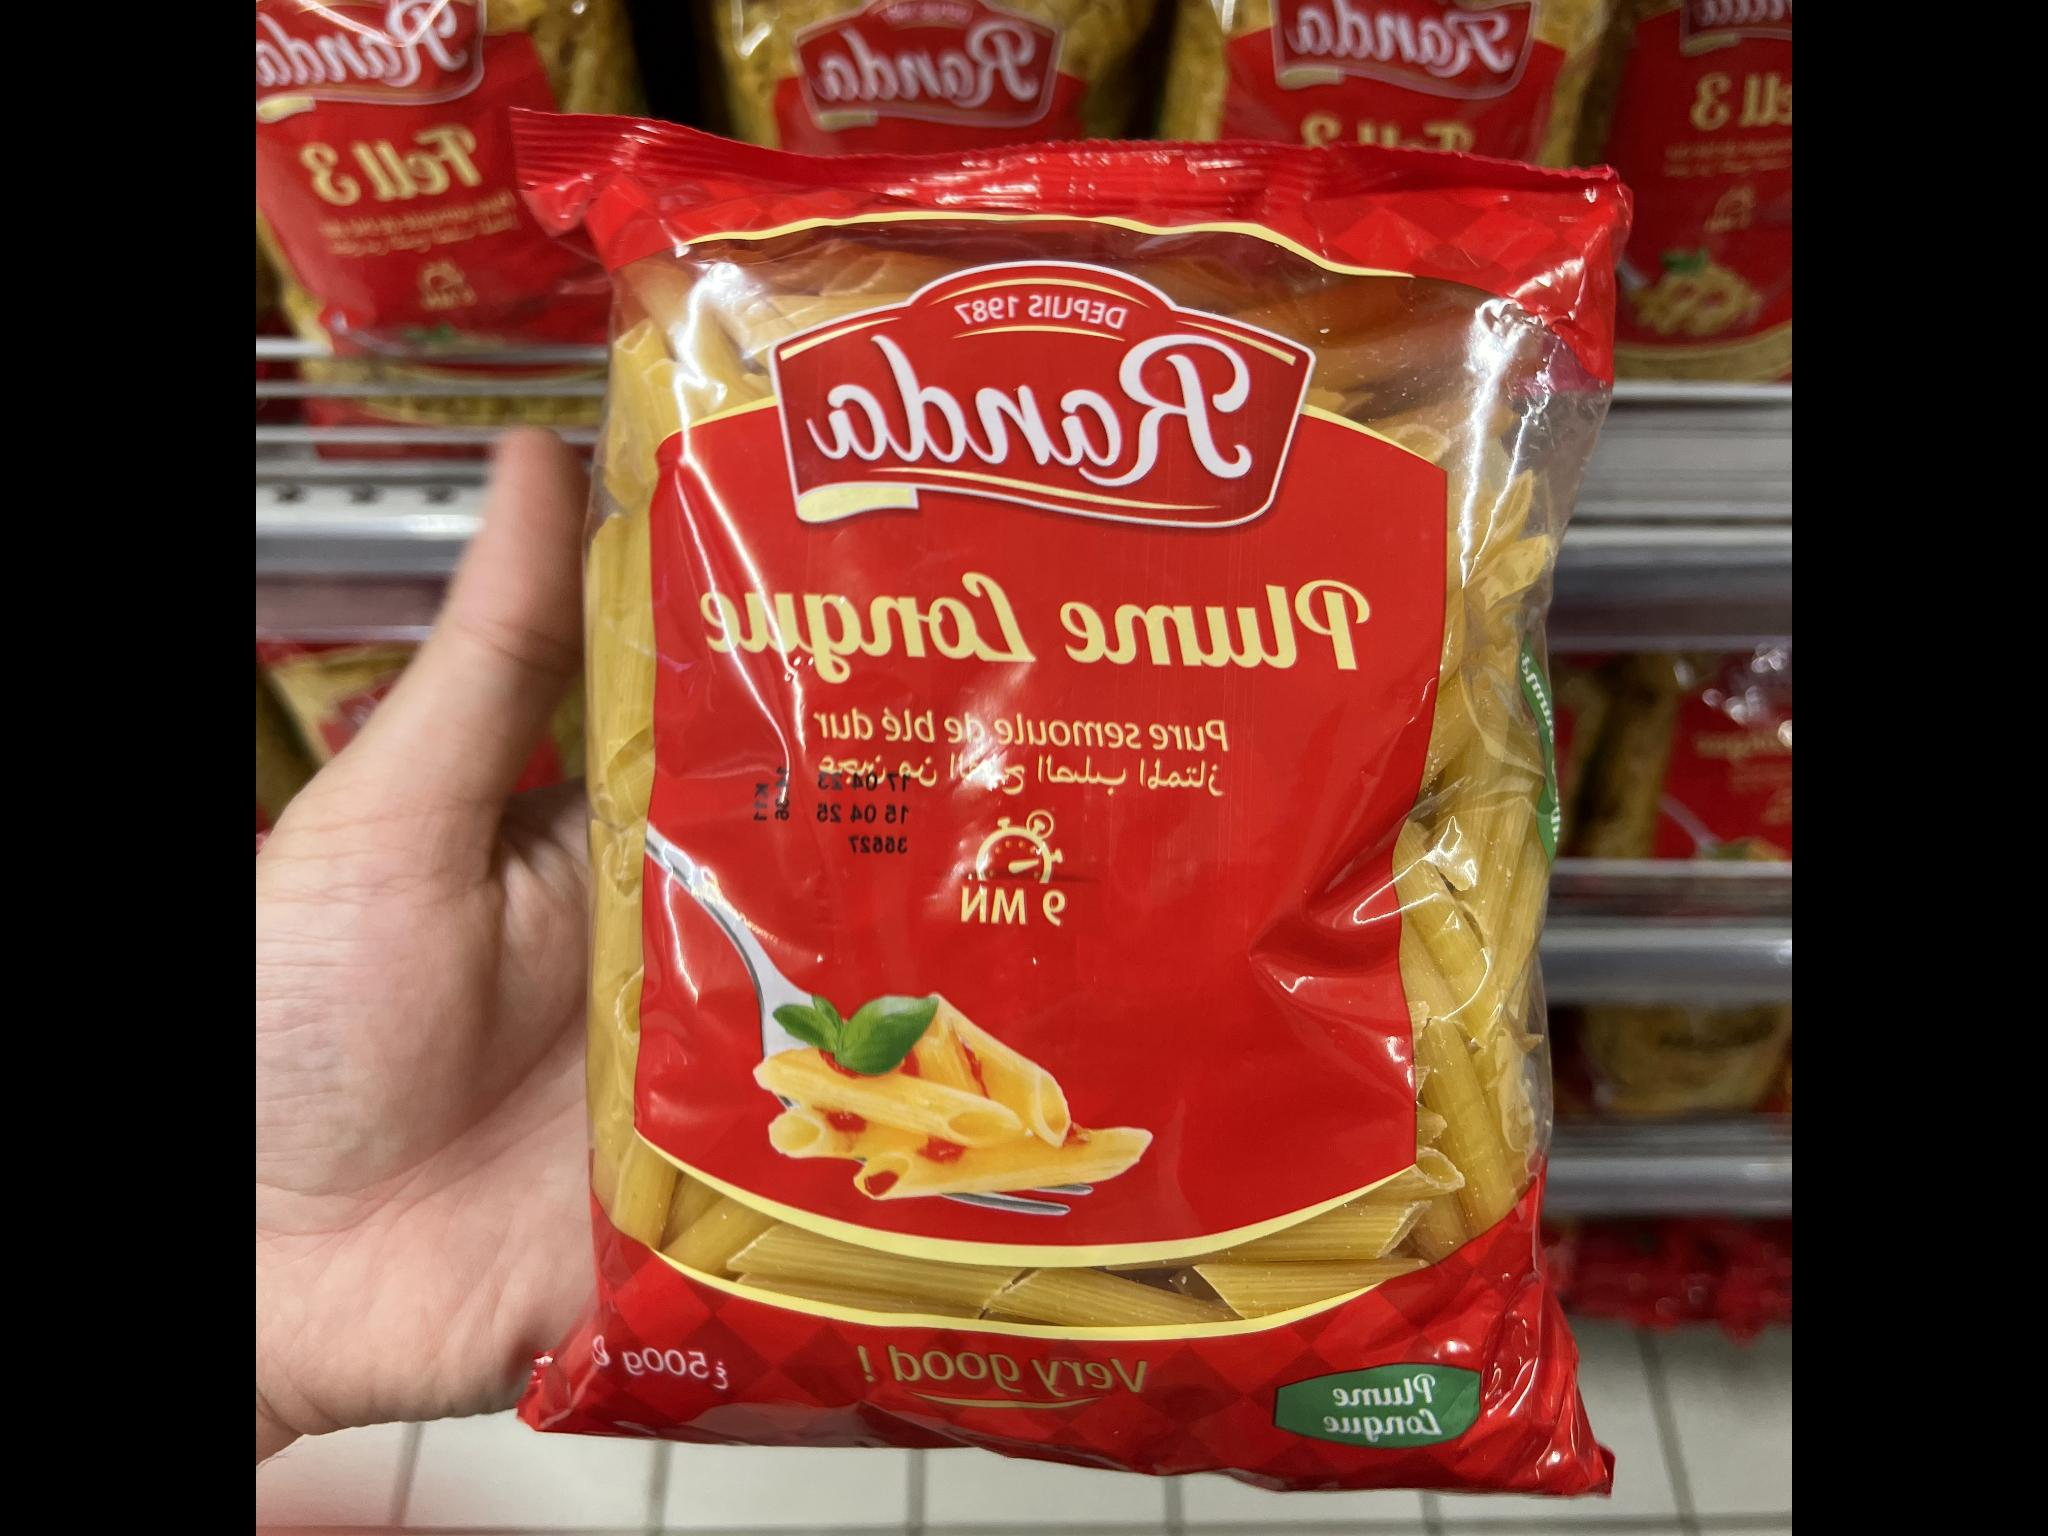Fell: (277, 0, 605, 386)
plume: (542, 137, 1577, 1475)
